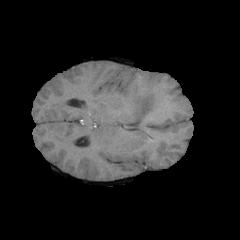glioma: (126, 88, 165, 134)
